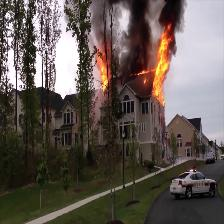fire: (152, 22, 173, 101), (96, 42, 115, 89)
smoke: (124, 2, 149, 76), (93, 2, 117, 39), (163, 0, 183, 22)
